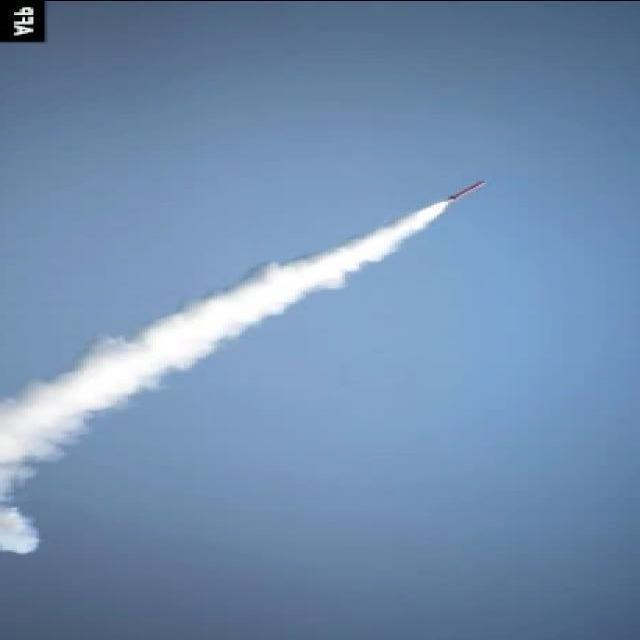missile: (445, 175, 487, 209)
